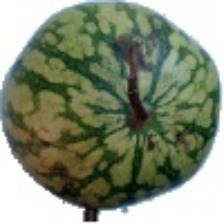watermelon: (39, 24, 215, 186)
